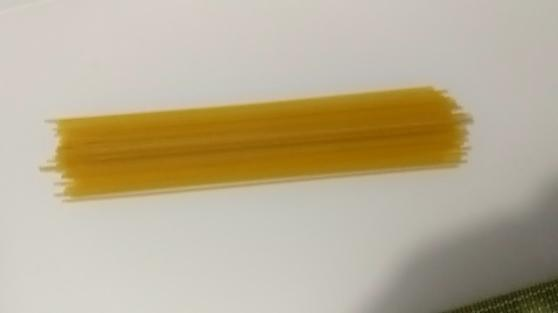spaghetti: (35, 74, 498, 208)
